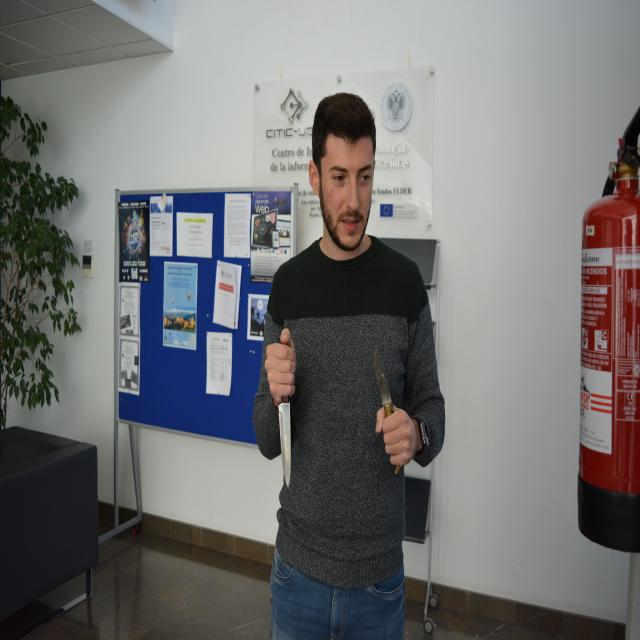knife: (370, 344, 394, 420), (278, 394, 296, 490)
